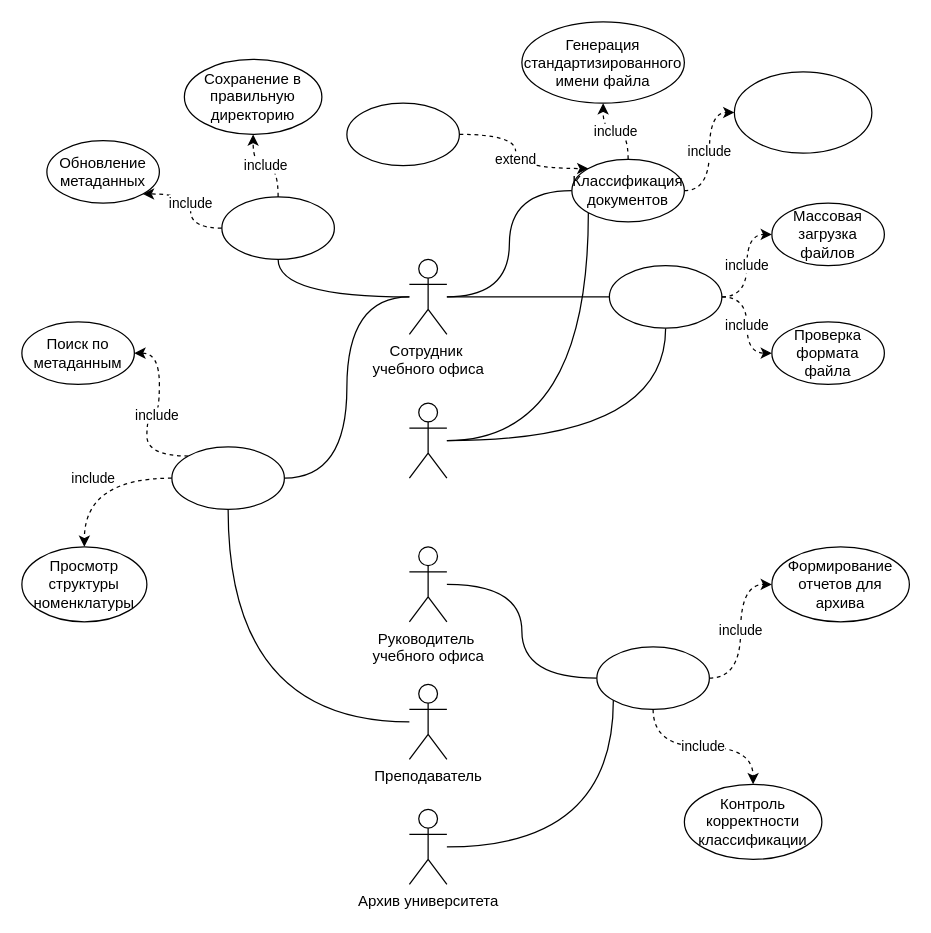
This 931x933 diagram has some shape labels left out. Each missing label, with the box of its shape:
Автоматическая классификация документов: (733, 71, 872, 153)
Загрузка документов: (608, 264, 722, 328)
Контроль и отчеты: (596, 646, 709, 709)
Новый сотрудник учебного офиса: (408, 402, 447, 478)
Поиск и просмотр: (171, 446, 284, 509)
Размещение документов: (221, 196, 334, 259)
Ручной выбор категории: (346, 102, 459, 166)
